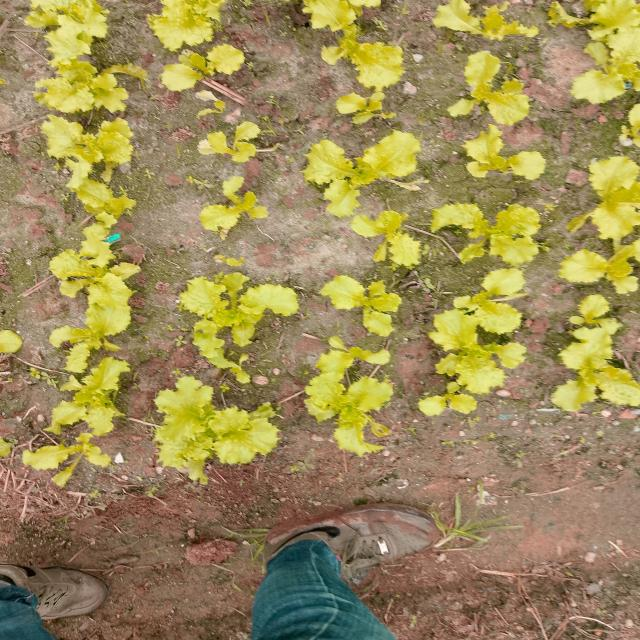Lettuce: (145, 379, 268, 482), (548, 305, 640, 410), (418, 307, 522, 394), (562, 199, 640, 307), (339, 32, 410, 133), (432, 64, 555, 122), (447, 193, 543, 265), (334, 184, 420, 262), (581, 88, 640, 199), (300, 135, 387, 210), (451, 124, 556, 186), (308, 332, 398, 390), (411, 382, 486, 423)
